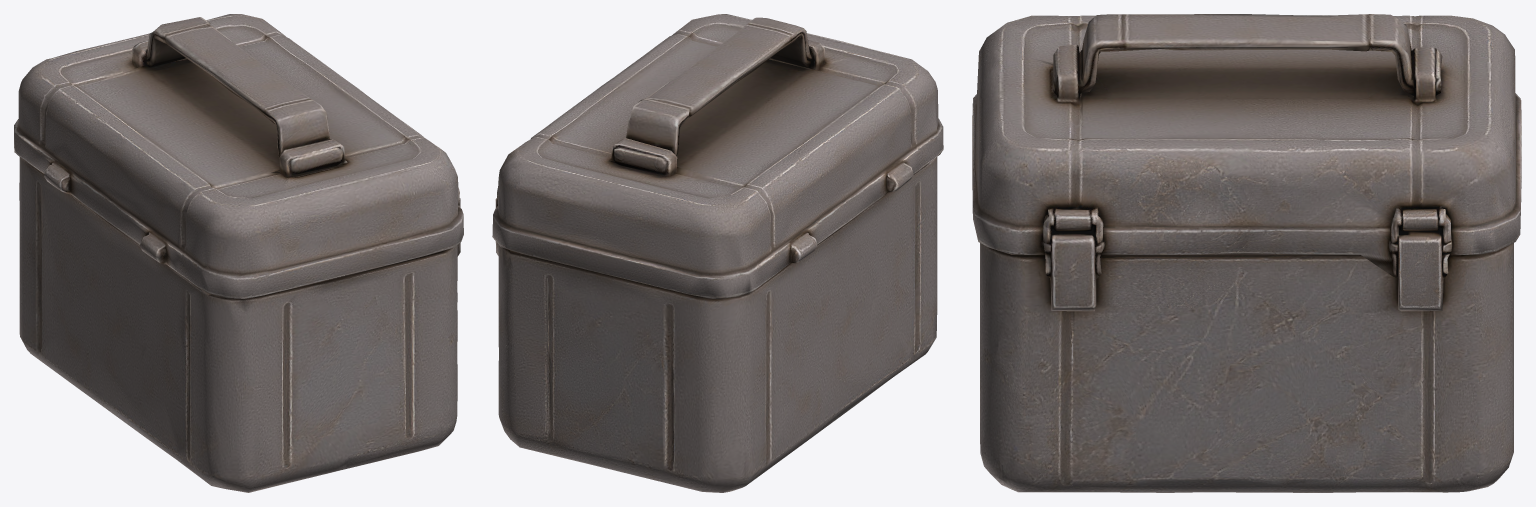
File: PROP-TOOL-LUNCHBOX.glb
The picture shows the model from 3 angles, left to right: view 1: azimuth 30°, elevation 25°; view 2: azimuth 150°, elevation 25°; view 3: azimuth 270°, elevation 25°; orthographic projection. The views are drawn at different scales.
Parts seen in each view (by area): view 1: tripo_node_f4f7bc35-beb3-4806-b0b0-d0ac2c02c0ec; view 2: tripo_node_f4f7bc35-beb3-4806-b0b0-d0ac2c02c0ec; view 3: tripo_node_f4f7bc35-beb3-4806-b0b0-d0ac2c02c0ec.
Boxes of the visible parts, x1,y1,x2,y2 form: tripo_node_f4f7bc35-beb3-4806-b0b0-d0ac2c02c0ec: (14, 14, 463, 492); tripo_node_f4f7bc35-beb3-4806-b0b0-d0ac2c02c0ec: (492, 14, 943, 492); tripo_node_f4f7bc35-beb3-4806-b0b0-d0ac2c02c0ec: (972, 14, 1521, 492).
Size of the model in its own units: 0.7199 by 0.8039 by 1.
1 material, 1 textured.
